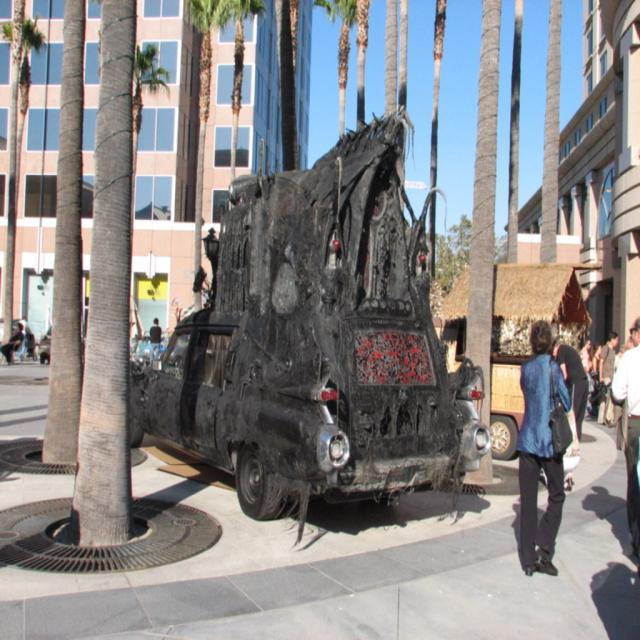car: (126, 107, 488, 538)
